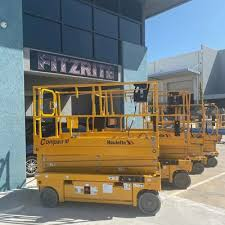Scissor Lift: (31, 79, 162, 216), (97, 86, 195, 189)
